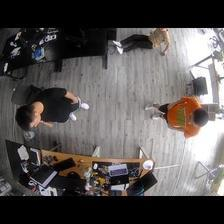fall: (113, 29, 171, 57)
normal: (13, 84, 87, 132), (144, 94, 209, 139)
